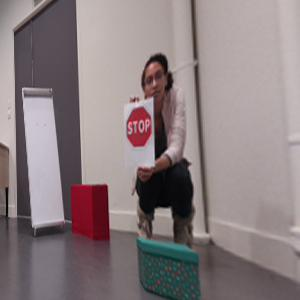big: (21, 87, 65, 234)
medium: (71, 183, 111, 241)
small: (137, 237, 202, 300)
